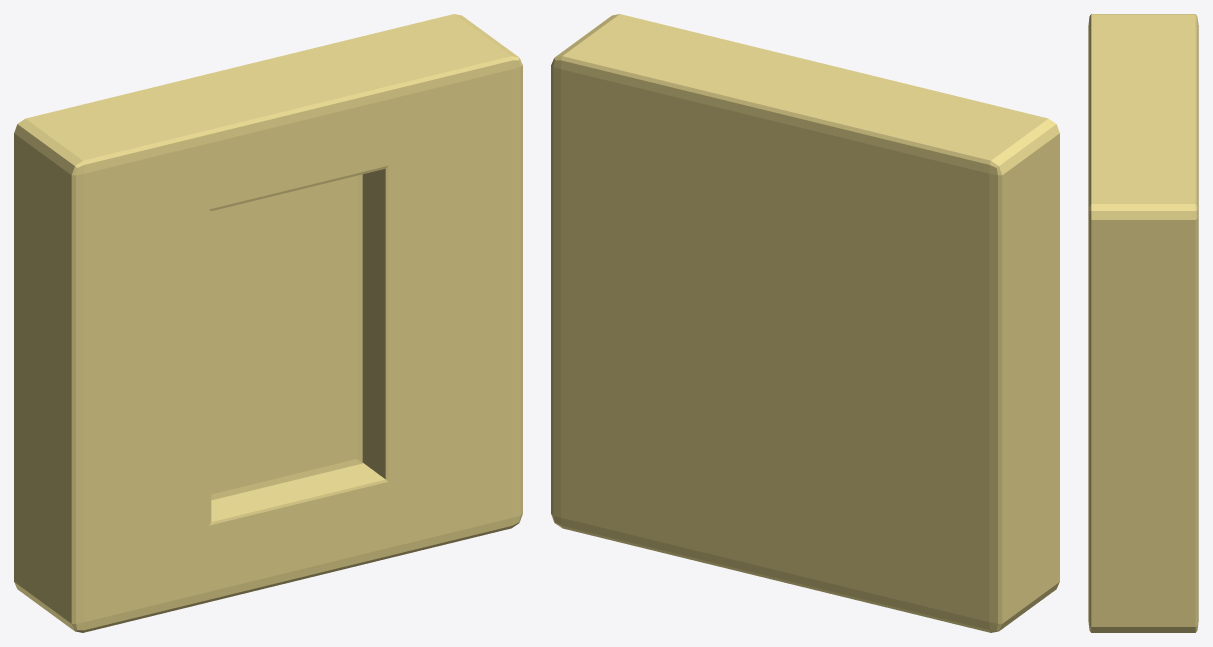
Rendered from lightswitchmain.fbx.
The picture shows the model from 3 angles, left to right: view 1: azimuth 30°, elevation 25°; view 2: azimuth 150°, elevation 25°; view 3: azimuth 270°, elevation 25°; orthographic projection. The views are drawn at different scales.
Parts seen in each view (by area): view 1: neolightswitchmain; view 2: neolightswitchmain; view 3: neolightswitchmain.
Boxes of the visible parts, x1,y1,x2,y2 form: neolightswitchmain: (14, 14, 522, 632); neolightswitchmain: (551, 14, 1059, 632); neolightswitchmain: (1088, 14, 1198, 632).
Size of the model in its own units: 24.51 by 24.51 by 5.7.
